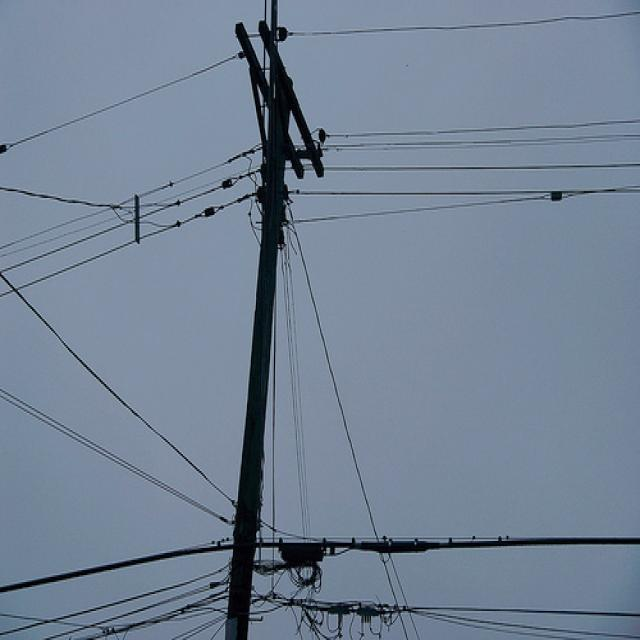crossarm: (233, 7, 326, 182)
pole: (224, 43, 294, 640)
wire: (2, 265, 233, 513), (288, 201, 410, 640), (0, 535, 640, 596), (0, 384, 233, 530), (0, 166, 261, 278), (0, 141, 260, 251), (0, 189, 257, 300), (0, 49, 246, 157), (0, 559, 232, 638), (284, 184, 640, 228), (0, 163, 261, 213), (250, 591, 640, 619), (287, 10, 640, 38), (286, 229, 312, 543), (289, 181, 638, 204), (322, 132, 639, 155), (325, 117, 640, 139), (413, 610, 640, 639), (326, 159, 639, 176), (412, 612, 585, 640), (386, 552, 421, 640), (271, 280, 277, 604)
